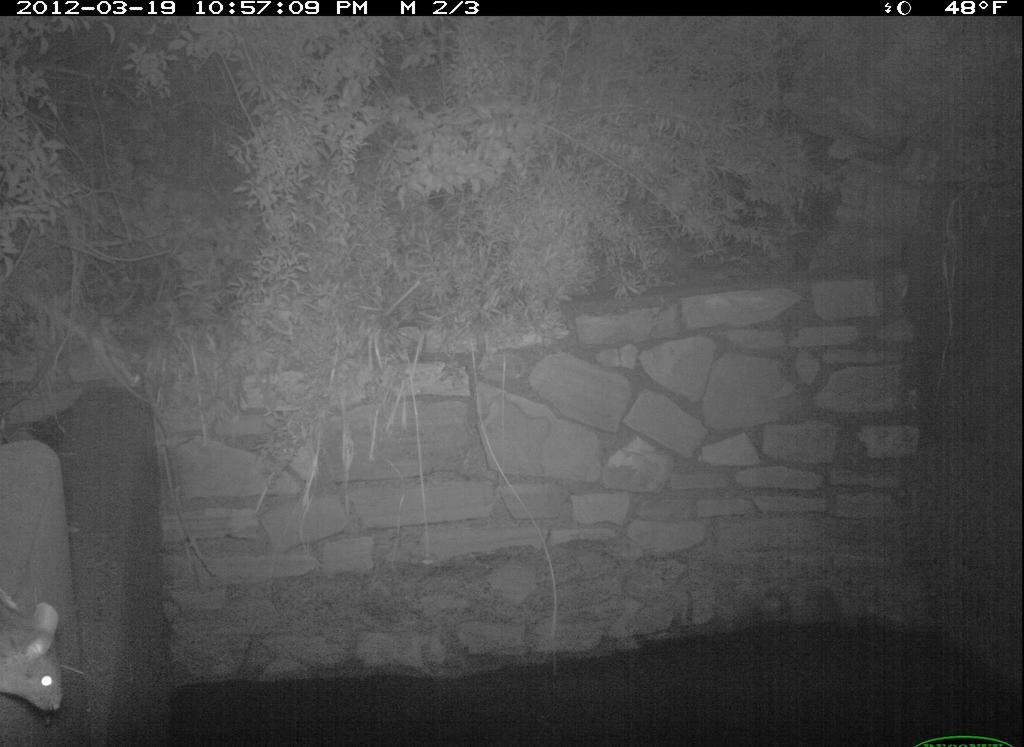rodent: (8, 591, 76, 722)
